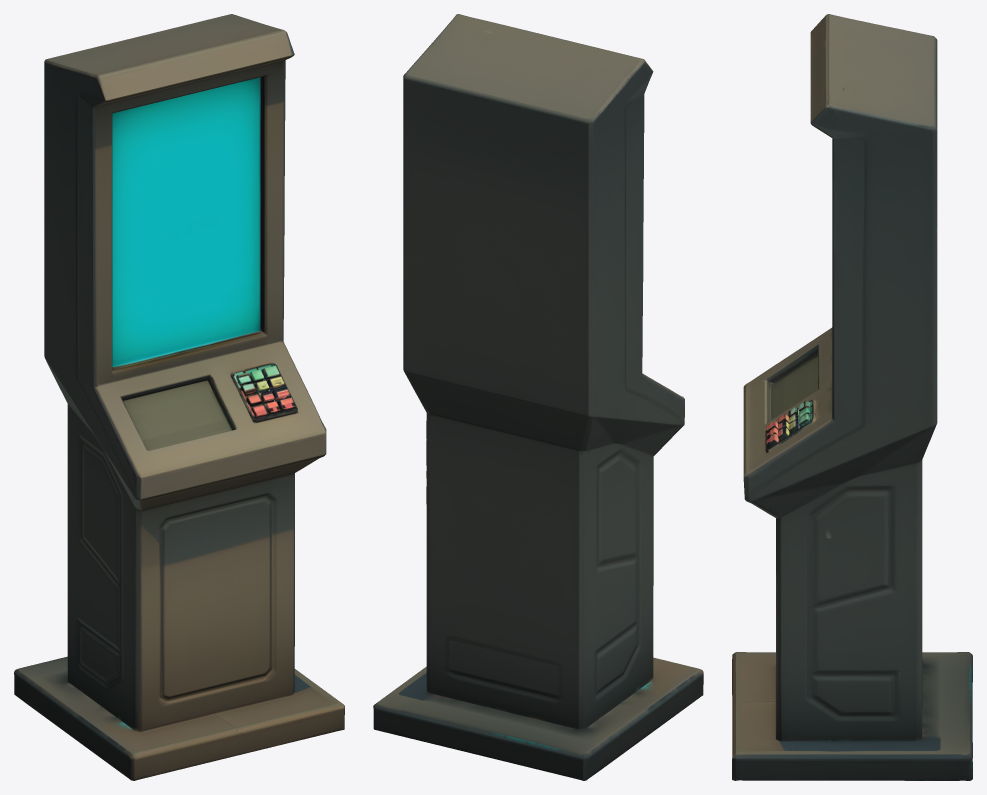
Rendered from OH_ExtractionTerminal.fbx.
3 renders of one model, left to right at view 1: azimuth 30°, elevation 25°; view 2: azimuth 150°, elevation 25°; view 3: azimuth 270°, elevation 25°, orthographic.
Visible parts, largest first — view 1: node_0; view 2: node_0; view 3: node_0.
Part boxes in pixels (x1,y1,x2,y2): node_0: (14,14,344,780); node_0: (373,14,703,780); node_0: (732,14,972,780).
Bounding box in the file's own units: 36.65 × 109 × 35.53.
1 material, 1 textured.
